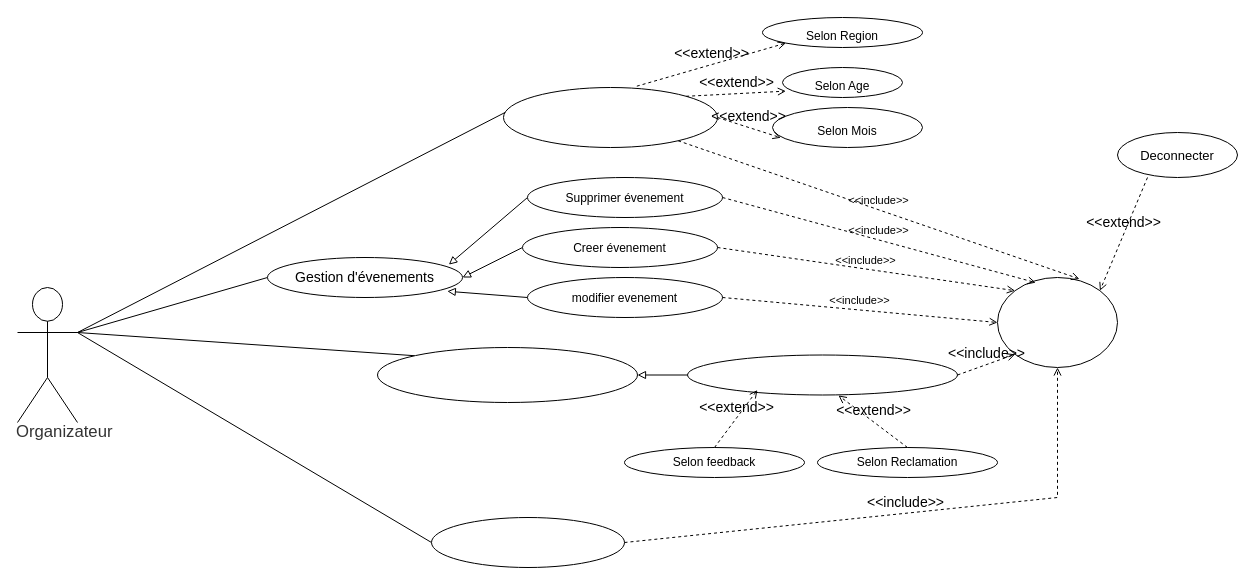
The diagram is 1255 pixels wide and 585 high, and some of its shapes have lost their labels. Each missing label, with the centre of its shape:
Ajouter Portier au evenement: the point at 527,542
Consulter des messages: the point at 507,374
Consulter les statistiques des ventes: the point at 610,117
Filtrer les messages: the point at 822,374
S'authentifier: the point at 1057,322
